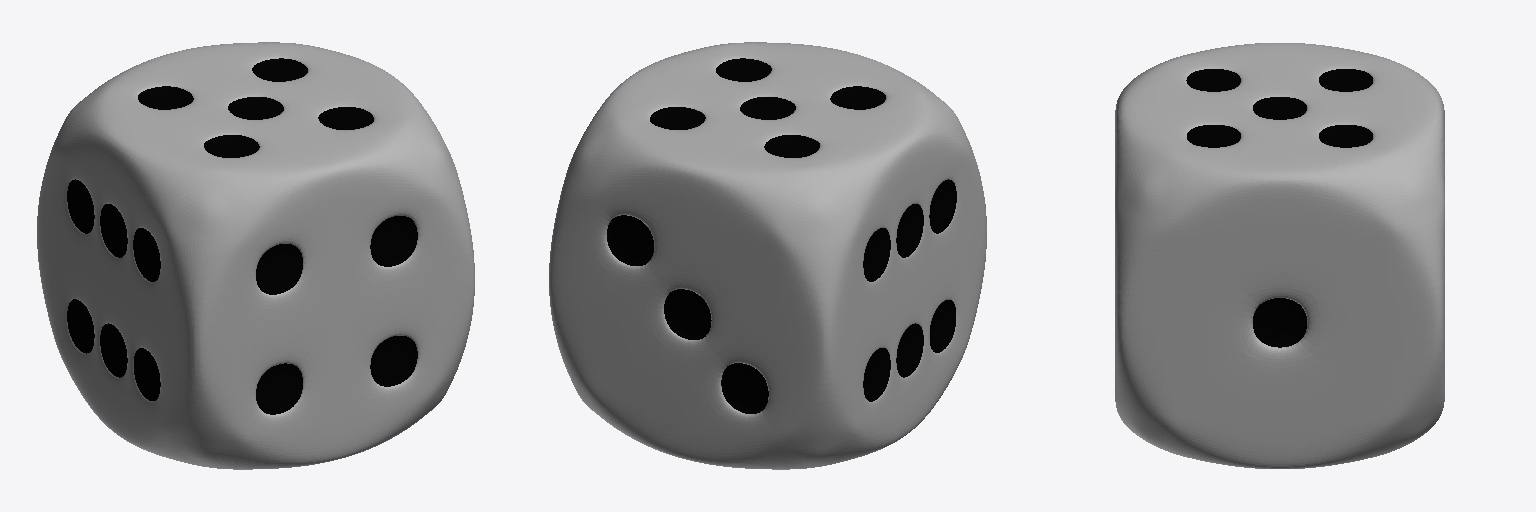
Rendered from Dice.obj.
3 renders of one model, left to right at view 1: azimuth 30°, elevation 25°; view 2: azimuth 150°, elevation 25°; view 3: azimuth 270°, elevation 25°, orthographic.
Parts seen in each view (by area): view 1: dice_Cube.003; view 2: dice_Cube.003; view 3: dice_Cube.003.
Part boxes in pixels (left/top/right/bottom): dice_Cube.003: left=37, top=42, right=474, bottom=469; dice_Cube.003: left=549, top=42, right=986, bottom=469; dice_Cube.003: left=1115, top=43, right=1444, bottom=468.
Size of the model in its own units: 0.2077 by 0.2077 by 0.2077.